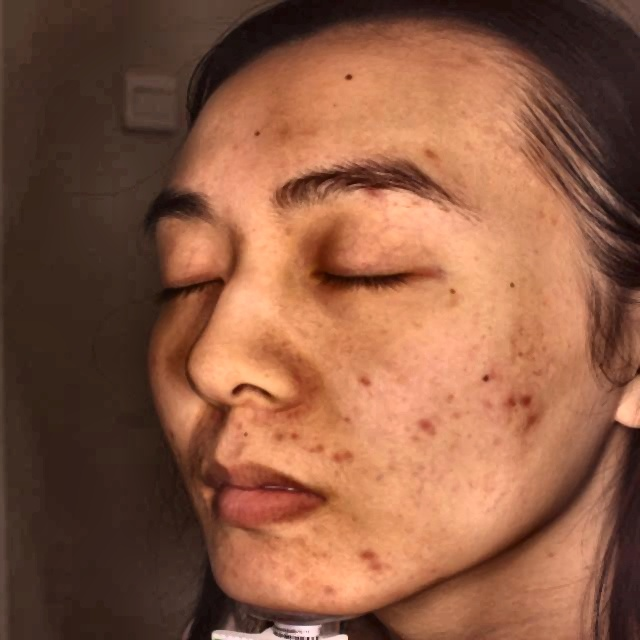pustule: (348, 546, 392, 577), (509, 409, 549, 434), (412, 411, 443, 438), (502, 386, 540, 408), (306, 440, 341, 460), (309, 573, 338, 594)
